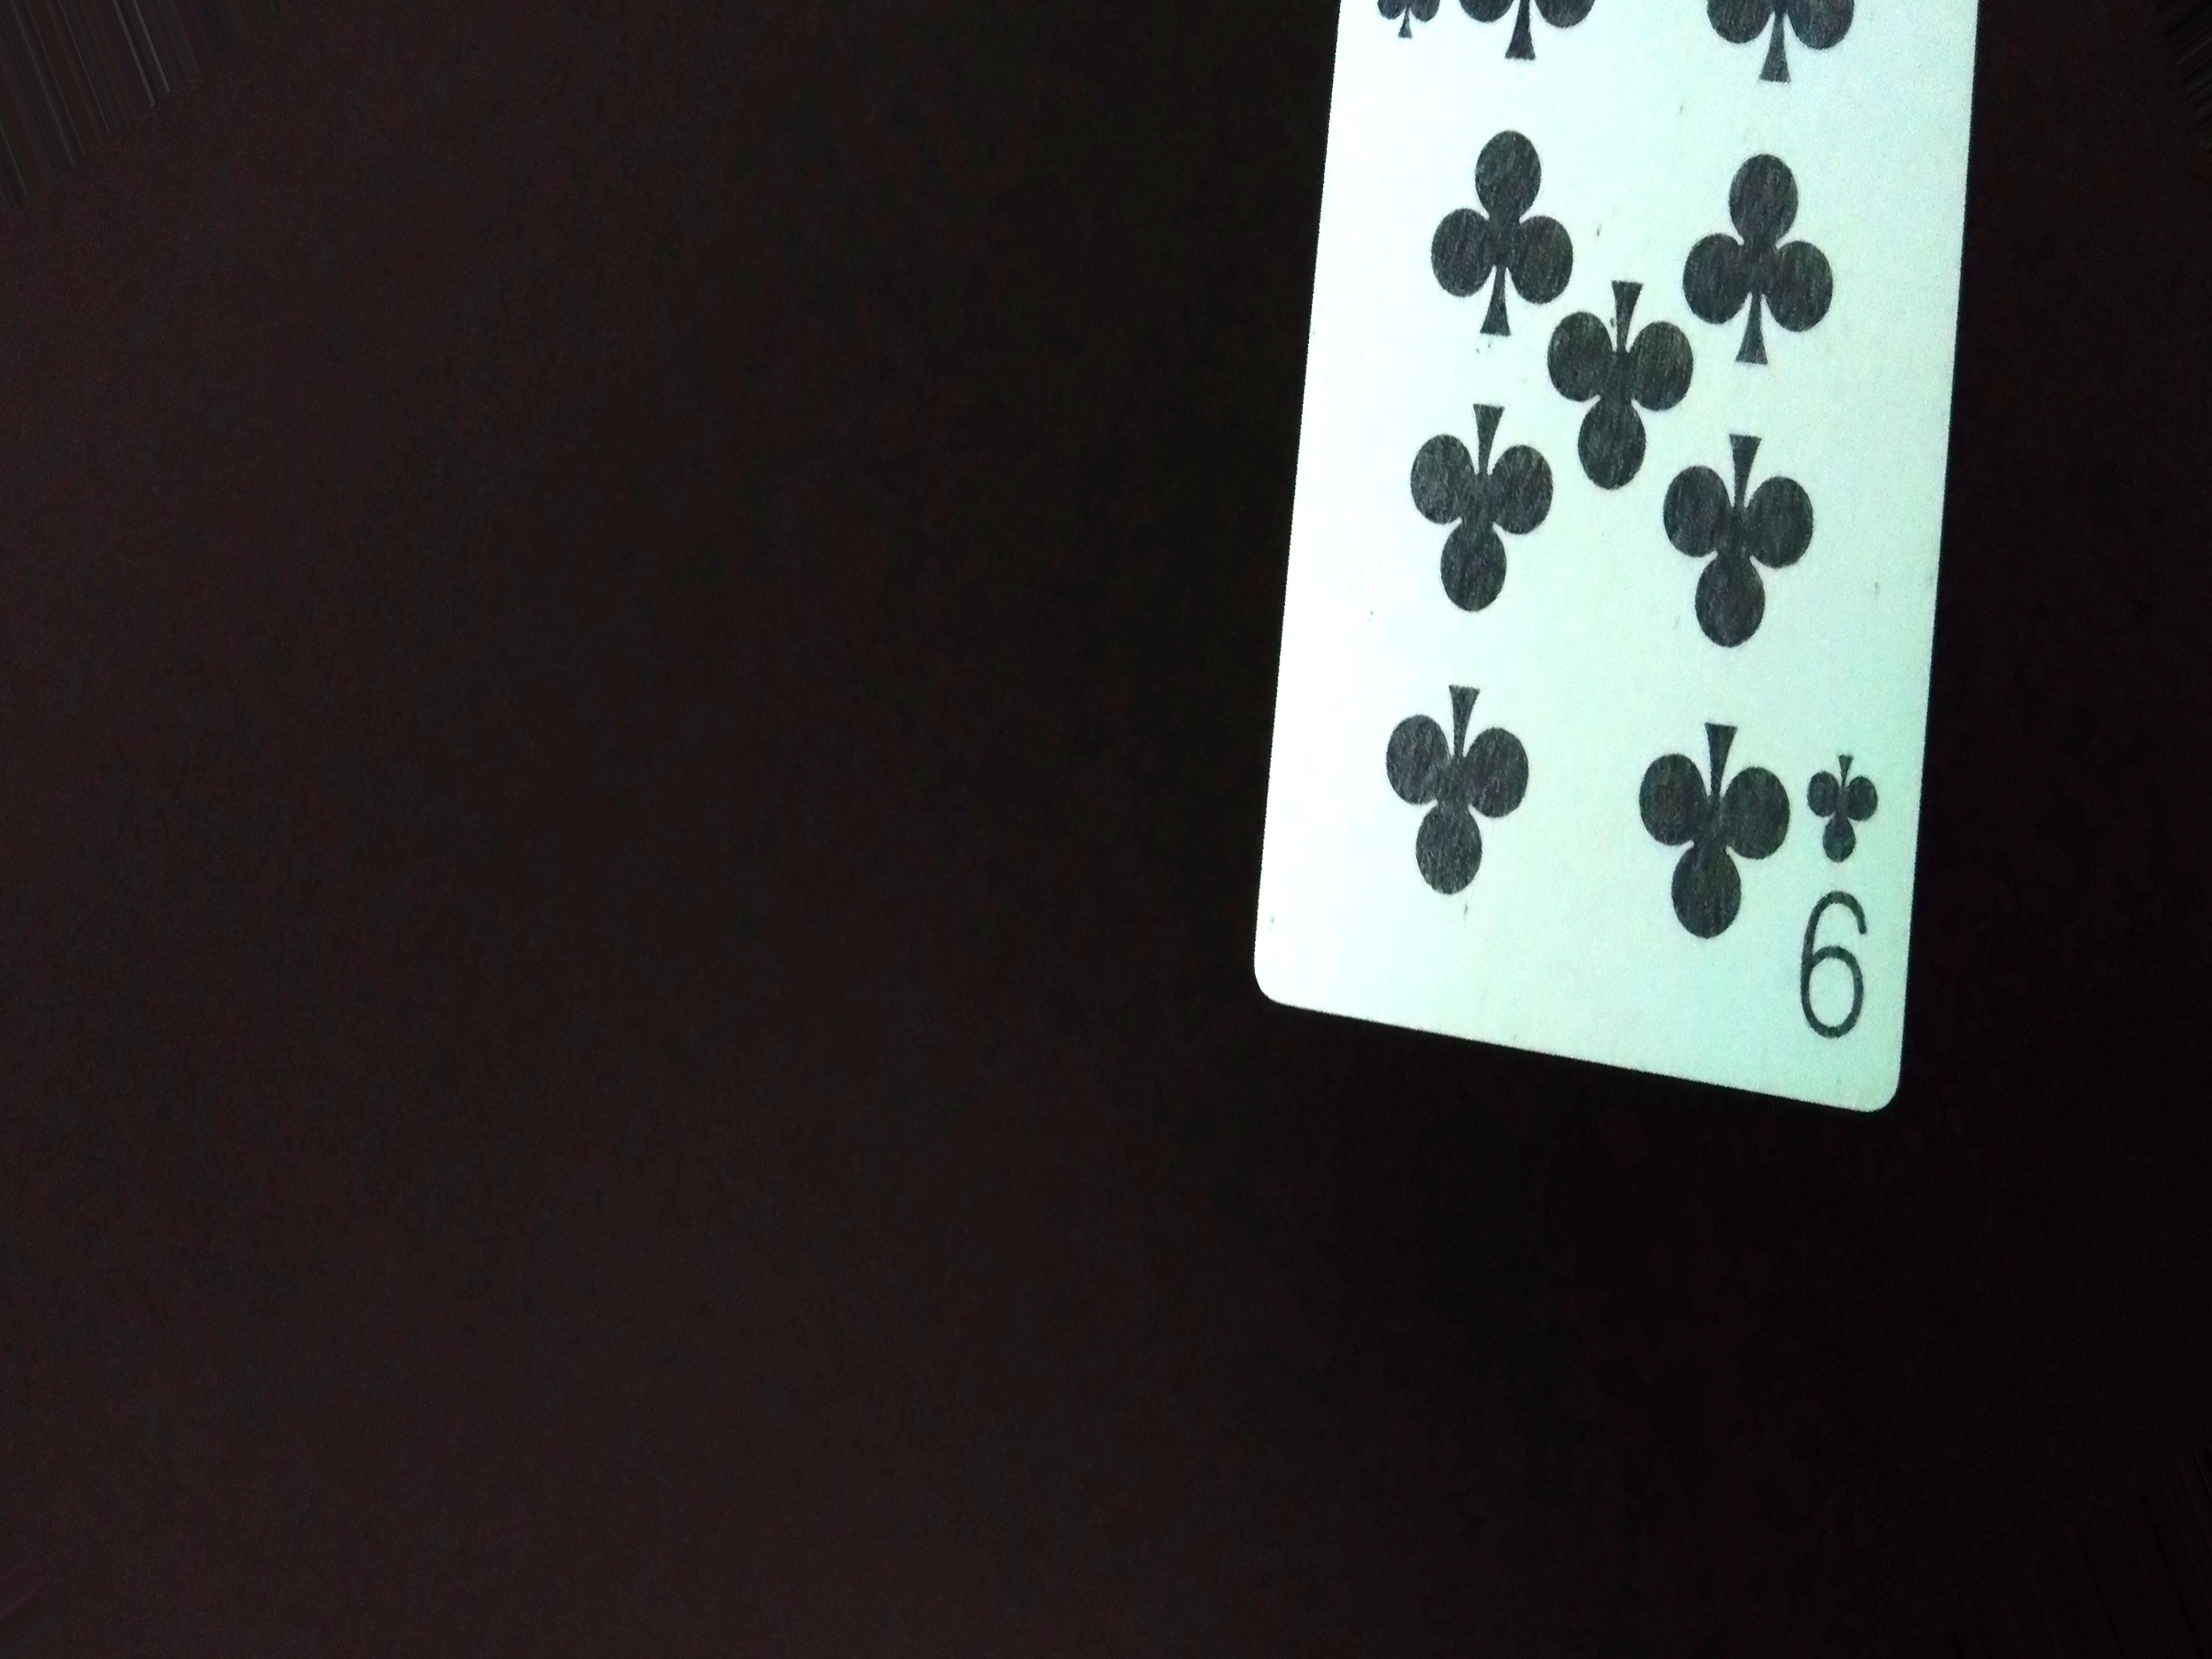9C: (1789, 735, 1898, 1073)
